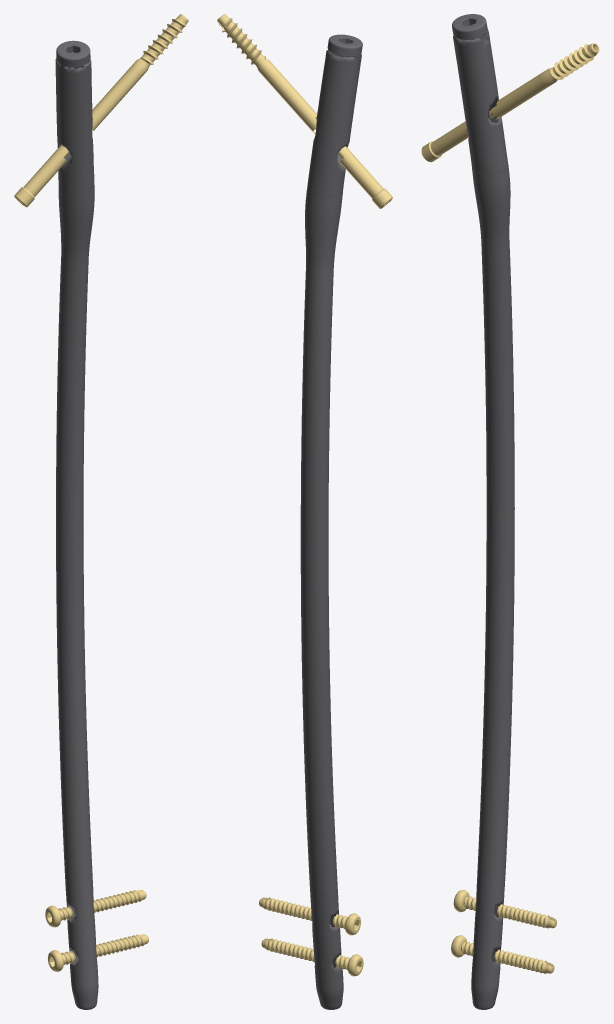
Rendered from rewalk-femoral.lod1.glb.
The picture shows the model from 3 angles, left to right: view 1: azimuth 30°, elevation 25°; view 2: azimuth 150°, elevation 25°; view 3: azimuth 330°, elevation 25°; orthographic projection. The views are drawn at different scales.
Visible parts, largest first — view 1: nail, neck_screw, lock_screw_1, lock_screw_2, end_cap; view 2: nail, neck_screw, lock_screw_1, lock_screw_2, end_cap; view 3: nail, neck_screw, lock_screw_1, lock_screw_2, end_cap.
Part boxes in pixels (x1,y1,x2,y2): nail: [55, 58, 98, 1009]; neck_screw: [14, 14, 188, 207]; lock_screw_1: [47, 934, 148, 971]; lock_screw_2: [45, 890, 146, 927]; end_cap: [56, 40, 90, 67]; nail: [300, 50, 361, 1009]; neck_screw: [217, 14, 392, 208]; lock_screw_1: [261, 938, 363, 976]; lock_screw_2: [259, 897, 360, 935]; end_cap: [327, 34, 362, 56]; nail: [453, 29, 514, 1009]; neck_screw: [421, 43, 599, 162]; lock_screw_1: [451, 935, 554, 973]; lock_screw_2: [453, 890, 556, 928]; end_cap: [452, 14, 487, 39].
Size of the model in its own units: 0.0718 by 0.3848 by 0.0236.
